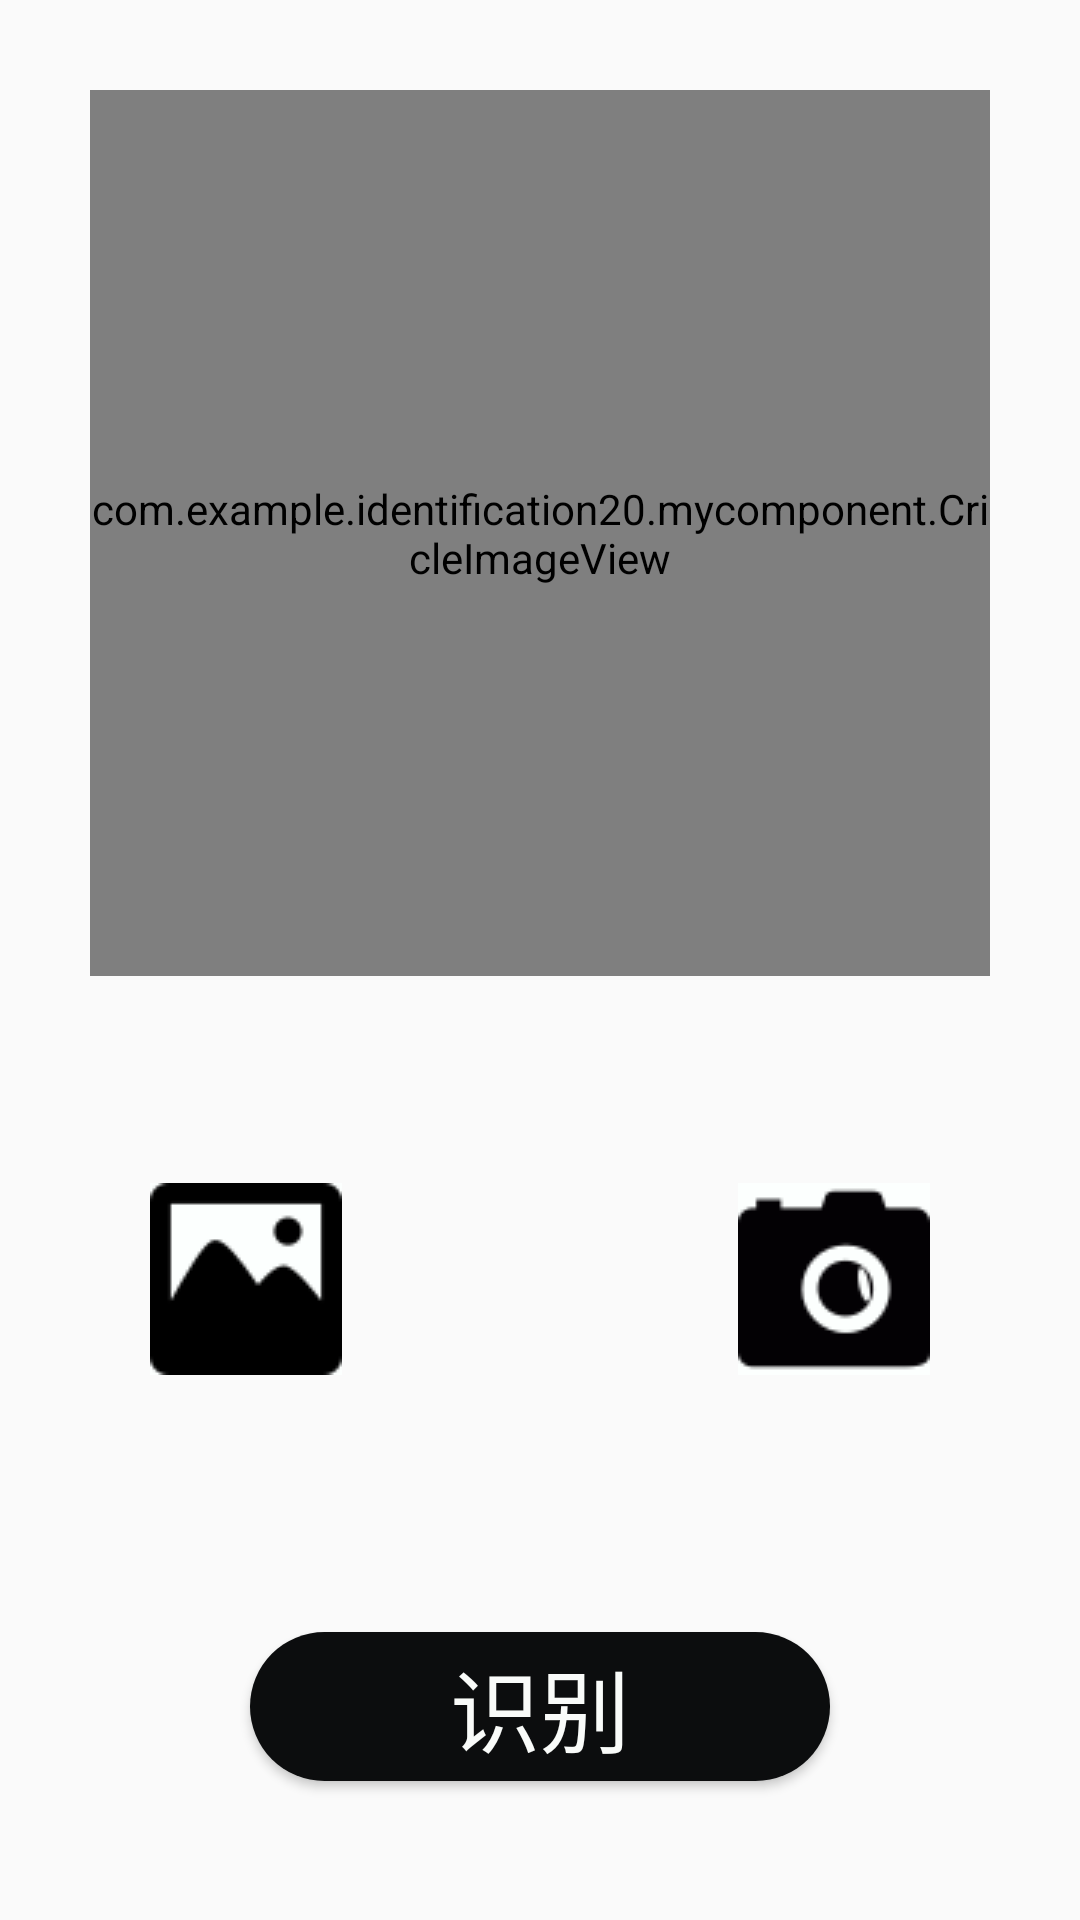

Icon bounding boxes for this 1080x1920 phone screenshot, format (left=x1, top=y1, right=x2, bottom=y2):
camera: (left=738, top=1189, right=930, bottom=1369)
photo: (left=150, top=1183, right=342, bottom=1375)
